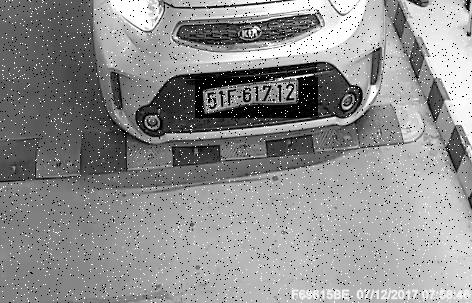License-plate: (197, 78, 321, 119)
